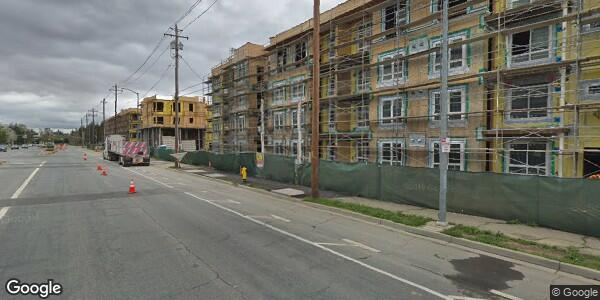Steel_Pole: (420, 1, 452, 232)
Wood_Pole: (161, 24, 193, 170), (308, 1, 323, 198)
